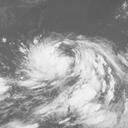cyclone: (19, 34, 115, 116)
